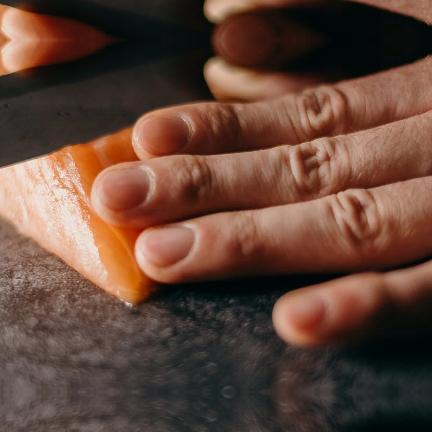Nail: (136, 226, 195, 266), (95, 168, 149, 210), (136, 115, 189, 154), (281, 290, 327, 332)
